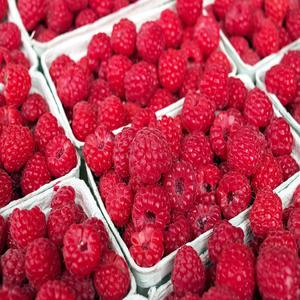raspb: (46, 6, 300, 267)
